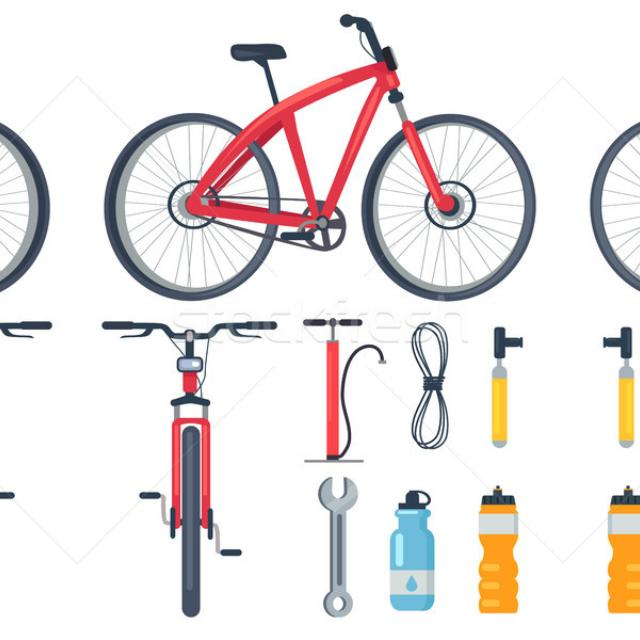obstacle: (97, 15, 540, 303), (0, 15, 55, 303), (585, 15, 640, 303)
